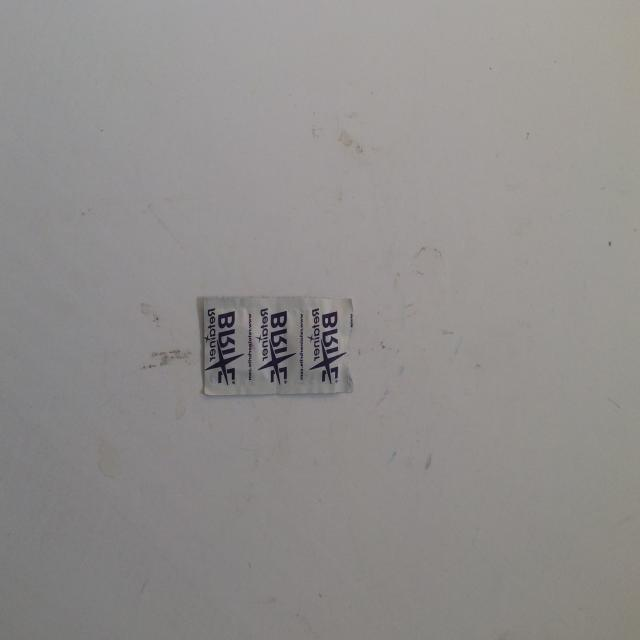plastic: (202, 295, 355, 396)
